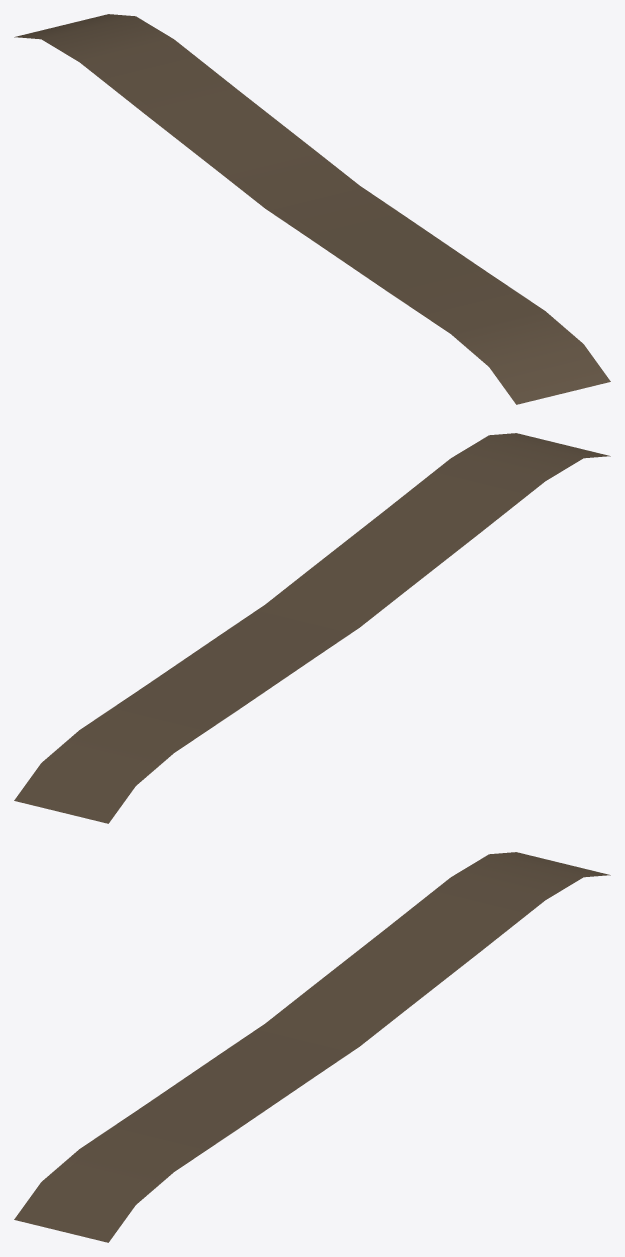
The model's file is Road_Segment.fbx.
3 renders of one model, top to bottom at view 1: azimuth 30°, elevation 25°; view 2: azimuth 150°, elevation 25°; view 3: azimuth 330°, elevation 25°, orthographic.
Visible parts, largest first — view 1: Road_Segment; view 2: Road_Segment; view 3: Road_Segment.
Part boxes in pixels (x1,y1,x2,y2): Road_Segment: (14,14,610,404); Road_Segment: (14,433,610,823); Road_Segment: (14,852,610,1242).
Size of the model in its own units: 100 by 23 by 920.
